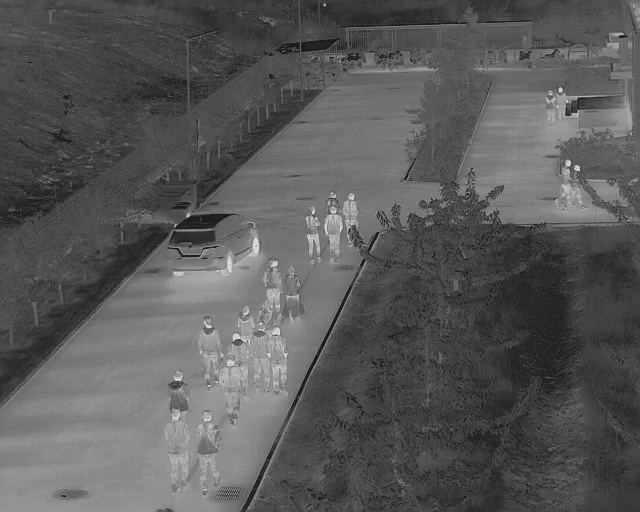person: (193, 410, 221, 493), (163, 409, 190, 491), (196, 315, 222, 389), (267, 325, 291, 396), (218, 354, 241, 424), (250, 320, 271, 392), (282, 263, 305, 321), (303, 206, 323, 266), (261, 257, 282, 313), (165, 367, 190, 414), (324, 203, 342, 267), (557, 159, 576, 213), (234, 303, 254, 340), (342, 191, 360, 228), (555, 85, 567, 124), (543, 91, 555, 124)
vehicle: (166, 213, 260, 274)
